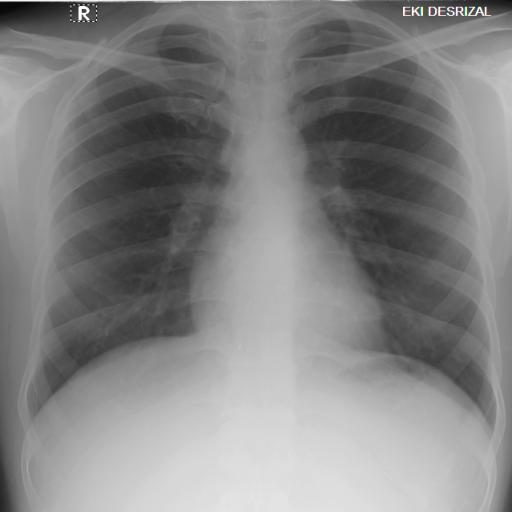normal: (14, 11, 507, 454)
